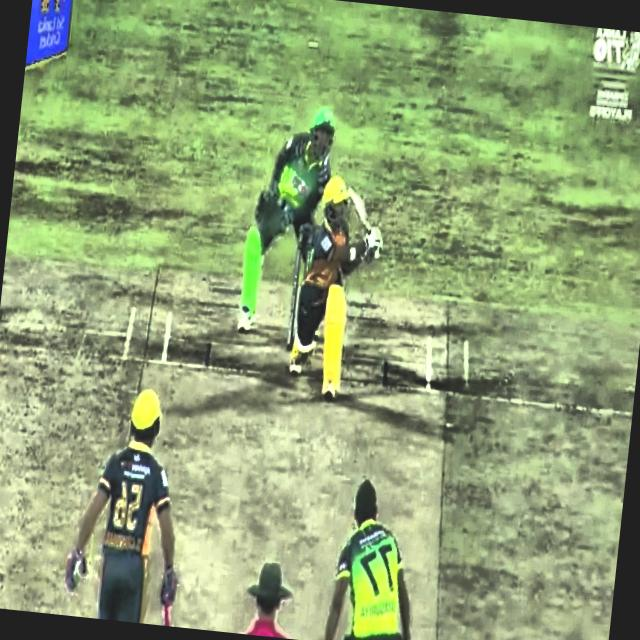Middle-stump: (306, 226, 319, 274)
Right-stump: (285, 231, 306, 362)
